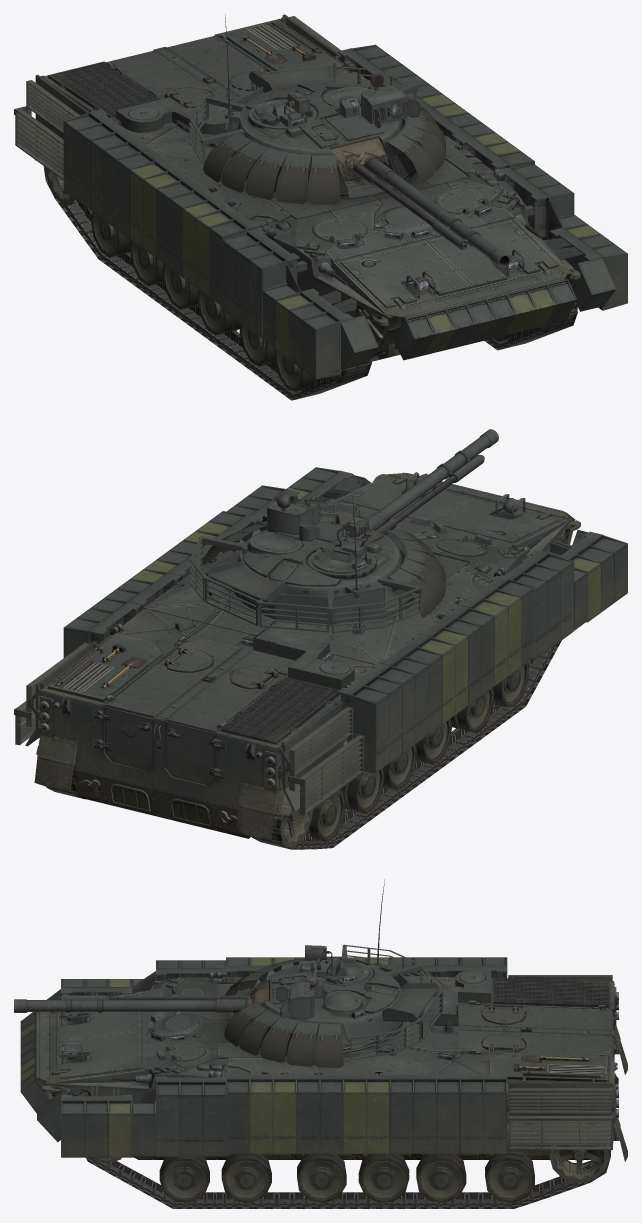
File: bmp3m_era.glb
The picture shows the model from 3 angles, top to bottom: view 1: azimuth 30°, elevation 25°; view 2: azimuth 150°, elevation 25°; view 3: azimuth 270°, elevation 25°; orthographic projection. The views are drawn at different scales.
Parts seen in each view (by area): view 1: Body, Turret, Hatch_8b, Hatch_9b, ERA_009, ERA_046, Hatch_3, Hatch_2, Hatch_0, ERA_061, ERA_062, ERA_051 (+25 smaller); view 2: Body, Turret, Hatch_9b, Hatch_8b, Hatch_8, Hatch_9, ERA_066, ERA_061, ERA_073, ERA_051, ERA_062, ERA_074 (+18 smaller); view 3: Body, Turret, Hatch_9b, Hatch_8b, ERA_016, ERA_023, ERA_027, ERA_032, ERA_039, ERA_024, ERA_028, ERA_031 (+18 smaller).
Boxes of the visible parts, left/top/right/bottom form: Body: left=14, top=14, right=627, bottom=400; Turret: left=189, top=14, right=510, bottom=268; Hatch_8b: left=106, top=50, right=226, bottom=109; Hatch_9b: left=167, top=35, right=269, bottom=96; ERA_009: left=569, top=258, right=615, bottom=311; ERA_046: left=341, top=315, right=378, bottom=369; Hatch_3: left=313, top=217, right=367, bottom=242; Hatch_2: left=435, top=186, right=487, bottom=214; Hatch_0: left=375, top=206, right=433, bottom=233; ERA_061: left=169, top=193, right=204, bottom=257; ERA_062: left=156, top=183, right=190, bottom=248; ERA_051: left=235, top=244, right=269, bottom=309; Body: left=14, top=467, right=627, bottom=849; Turret: left=189, top=429, right=498, bottom=633; Hatch_9b: left=105, top=635, right=241, bottom=717; Hatch_8b: left=166, top=650, right=295, bottom=732; Hatch_8: left=165, top=721, right=218, bottom=785; Hatch_9: left=99, top=706, right=153, bottom=770; ERA_066: left=420, top=640, right=455, bottom=704; ERA_061: left=460, top=611, right=494, bottom=675; ERA_073: left=381, top=669, right=415, bottom=733; ERA_051: left=526, top=566, right=560, bottom=630; ERA_062: left=447, top=620, right=481, bottom=685; ERA_074: left=368, top=679, right=402, bottom=743; Body: left=20, top=956, right=627, bottom=1208; Turret: left=14, top=879, right=442, bottom=1059; Hatch_9b: left=458, top=1030, right=611, bottom=1056; Hatch_8b: left=458, top=1003, right=611, bottom=1030; ERA_016: left=180, top=1084, right=203, bottom=1139; ERA_023: left=249, top=1082, right=272, bottom=1136; ERA_027: left=296, top=1082, right=319, bottom=1136; ERA_032: left=366, top=1082, right=389, bottom=1136; ERA_039: left=436, top=1082, right=459, bottom=1136; ERA_024: left=273, top=1082, right=296, bottom=1136; ERA_028: left=320, top=1082, right=343, bottom=1136; ERA_031: left=343, top=1082, right=366, bottom=1136.
Size of the model in its own units: 3.86 by 3.37 by 7.42.
Materials: 10 (10 with a texture image).
